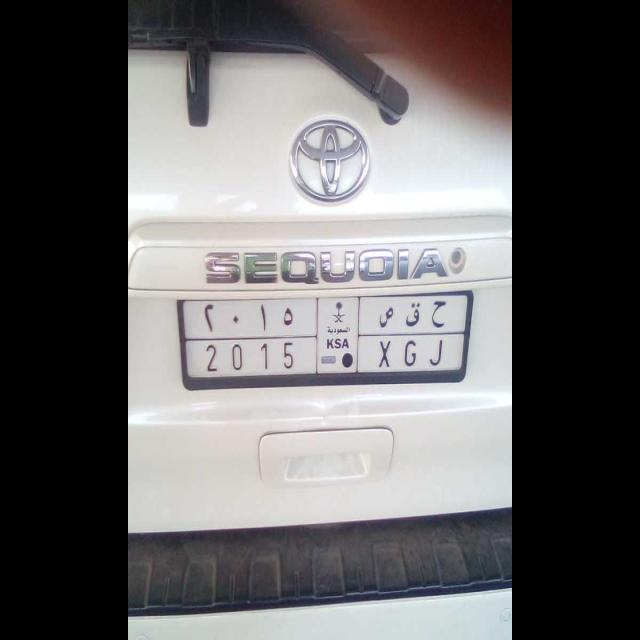license_plate: (186, 336, 460, 376)
